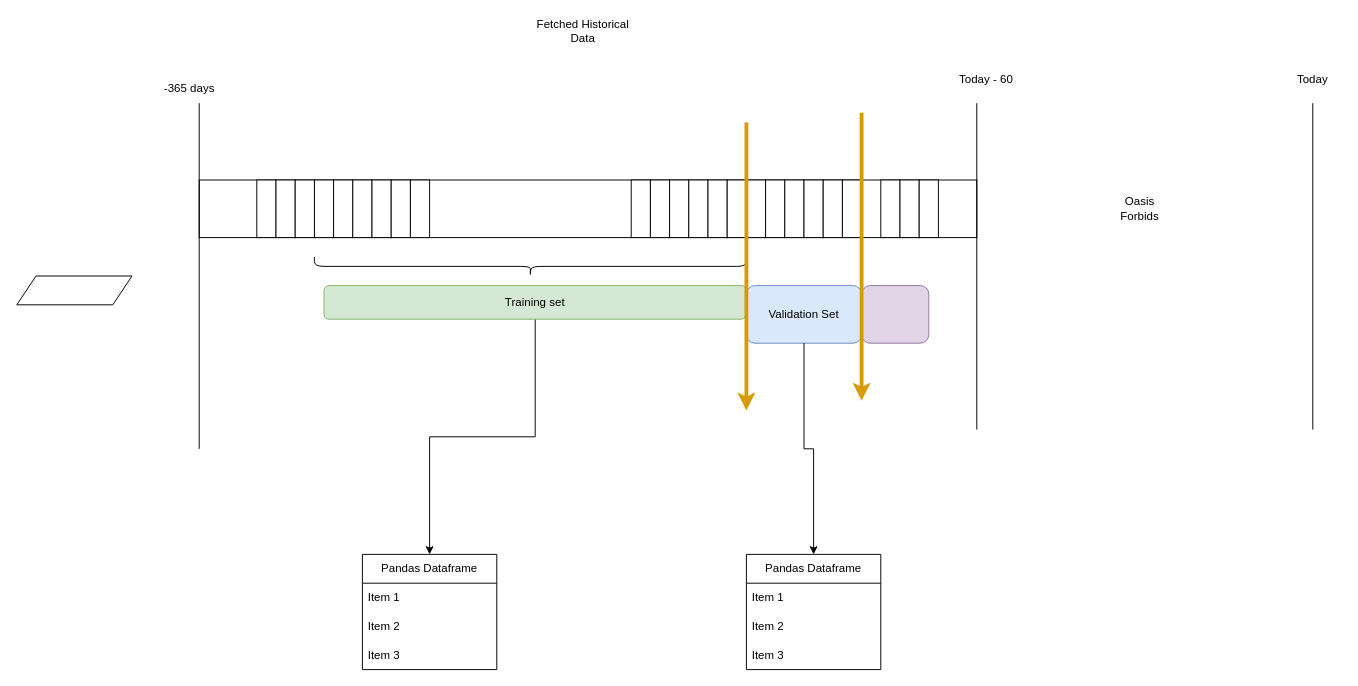
The diagram is 1358 pixels wide and 686 high, and some of its shapes have lost their labels. The box of each missing label's shape, as (x1, y1, x2, y2) in pixels:
config file: (16, 275, 132, 305)
Test Set: (861, 285, 929, 343)
